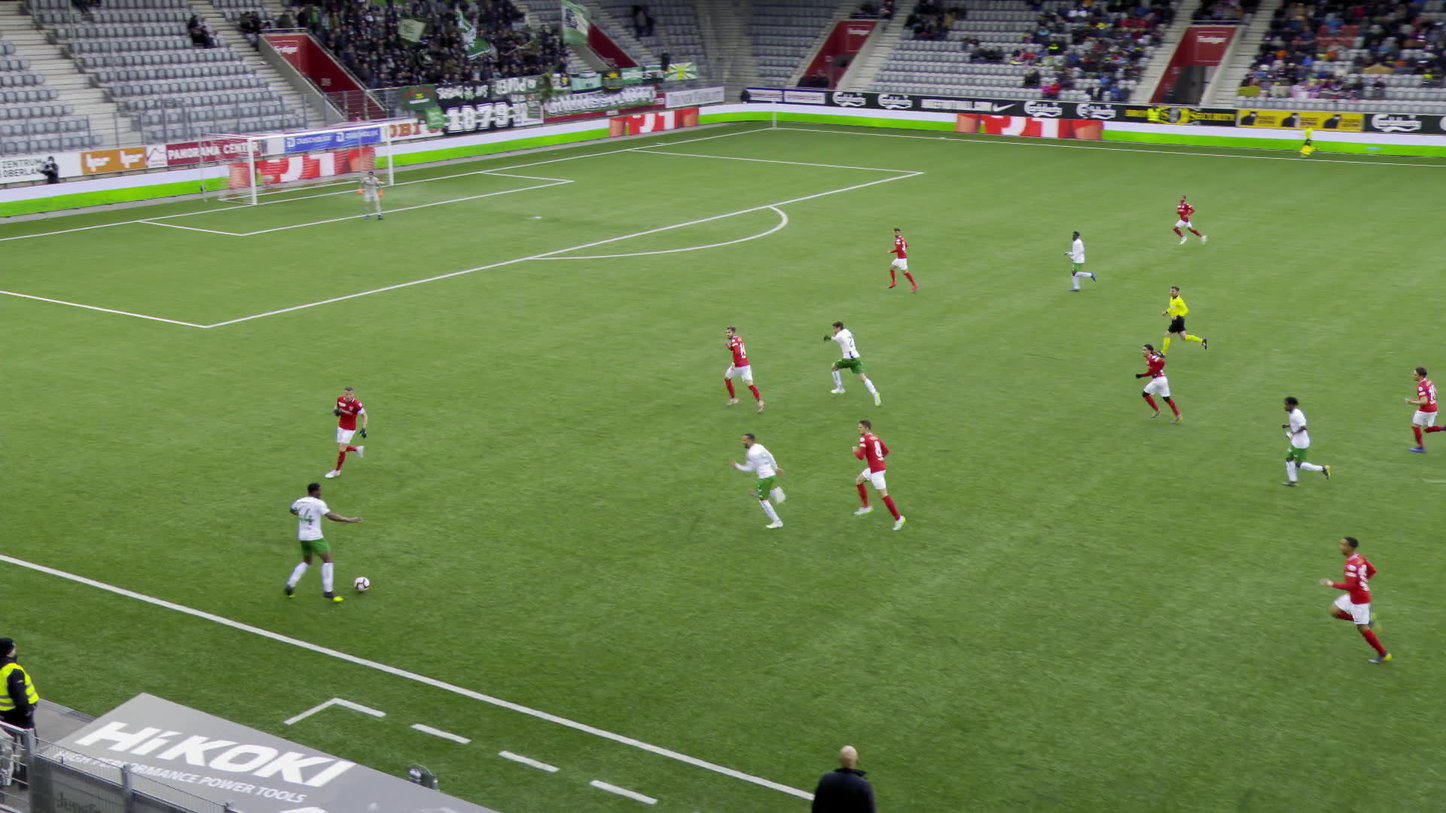ball: (348, 575, 369, 595)
player: (1323, 533, 1407, 662), (275, 483, 359, 604), (727, 429, 805, 526), (845, 419, 906, 526), (1271, 392, 1323, 489), (1398, 359, 1445, 457), (325, 385, 370, 479), (825, 319, 874, 403), (1133, 343, 1182, 423), (719, 325, 762, 412), (1057, 227, 1094, 293), (879, 227, 915, 294), (1165, 195, 1204, 248), (353, 169, 382, 224)
referee: (1156, 285, 1199, 361), (1291, 121, 1314, 160)
